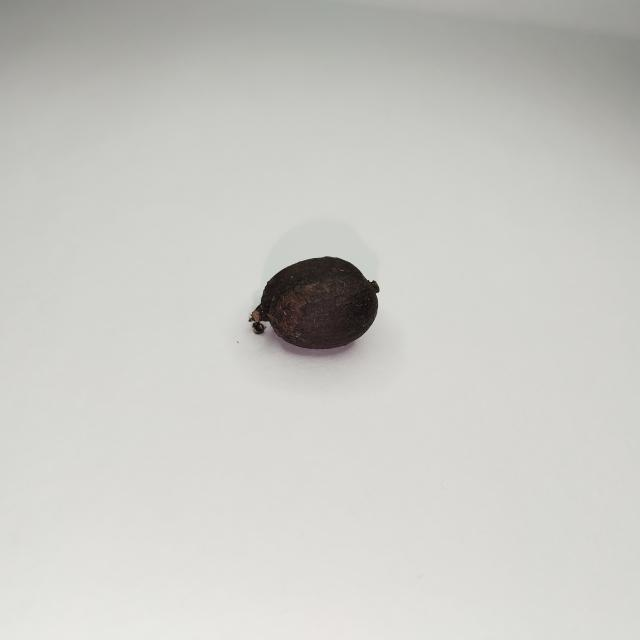Danado: (249, 258, 380, 350)
